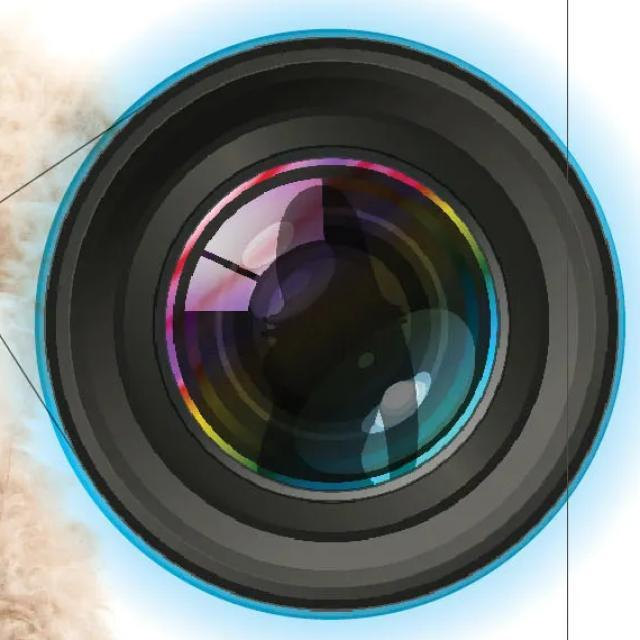hidden camera: (79, 83, 590, 593)
